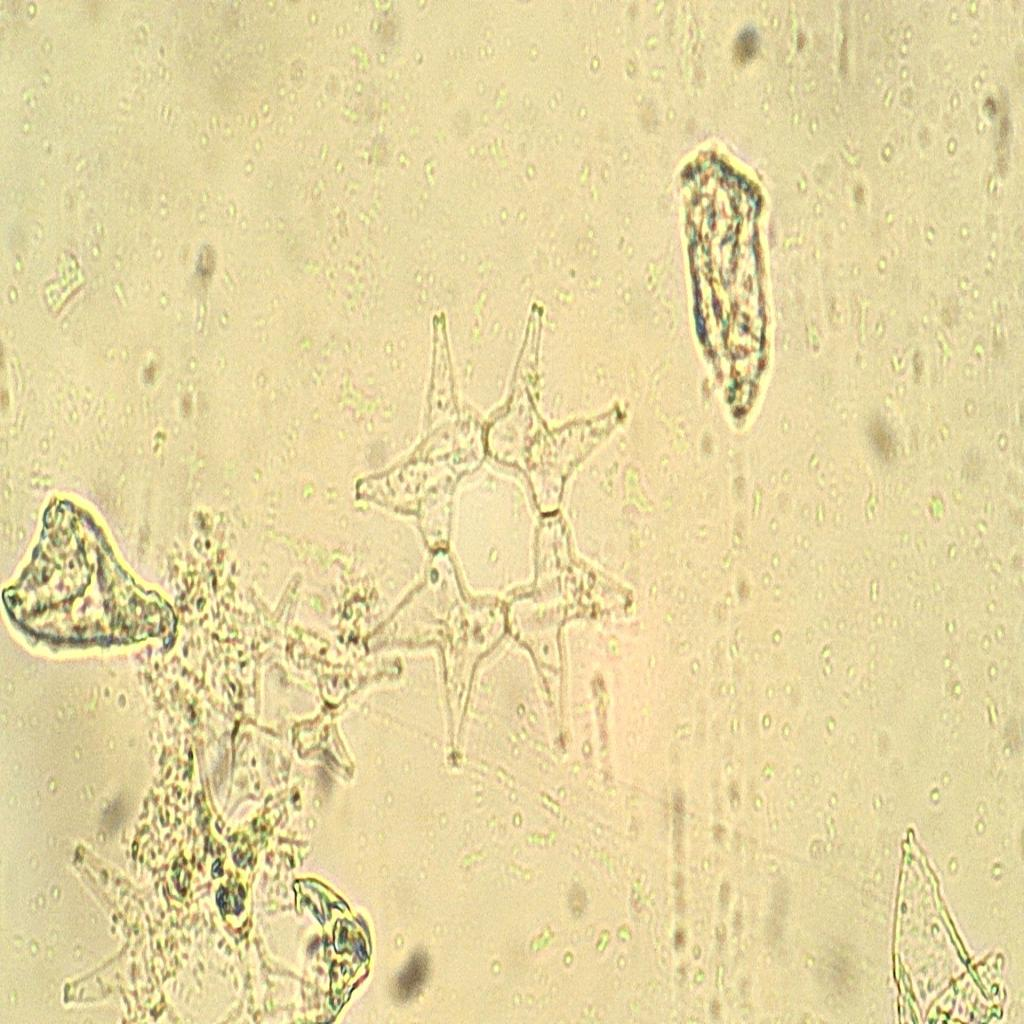Pediastrum_1F0: (339, 277, 654, 794)
